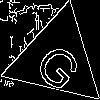G: (31, 34, 91, 95)
